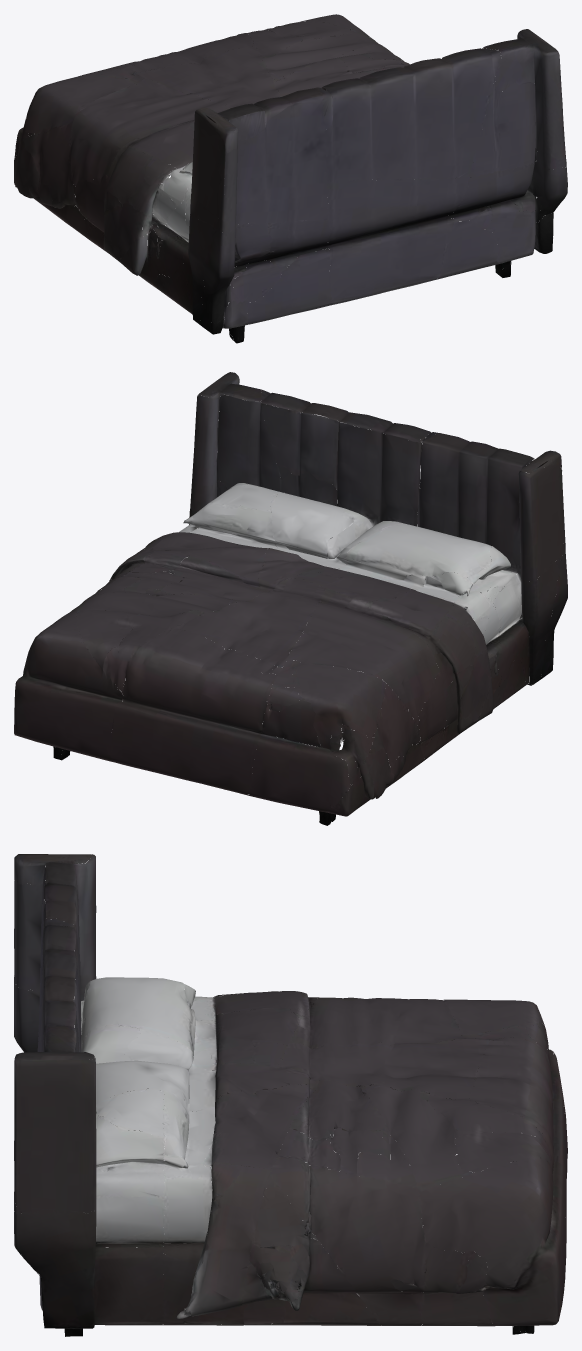
File: gen_bed_parents_tripo.web.glb
3 views of the same model, one above another, from view 1: azimuth 30°, elevation 25°; view 2: azimuth 150°, elevation 25°; view 3: azimuth 270°, elevation 25° (orthographic). The views are drawn at different scales.
Visible parts, largest first — view 1: tripo_node_15611108-0301-4763-b99d-2b04e4ac9054; view 2: tripo_node_15611108-0301-4763-b99d-2b04e4ac9054; view 3: tripo_node_15611108-0301-4763-b99d-2b04e4ac9054.
Part boxes in pixels (left/top/right/bottom): tripo_node_15611108-0301-4763-b99d-2b04e4ac9054: left=14, top=14, right=567, bottom=343; tripo_node_15611108-0301-4763-b99d-2b04e4ac9054: left=14, top=372, right=567, bottom=825; tripo_node_15611108-0301-4763-b99d-2b04e4ac9054: left=14, top=854, right=567, bottom=1336.
Bounding box in the file's own units: 2.03 × 1.2 × 2.01.
Materials: 1 (1 with a texture image).
